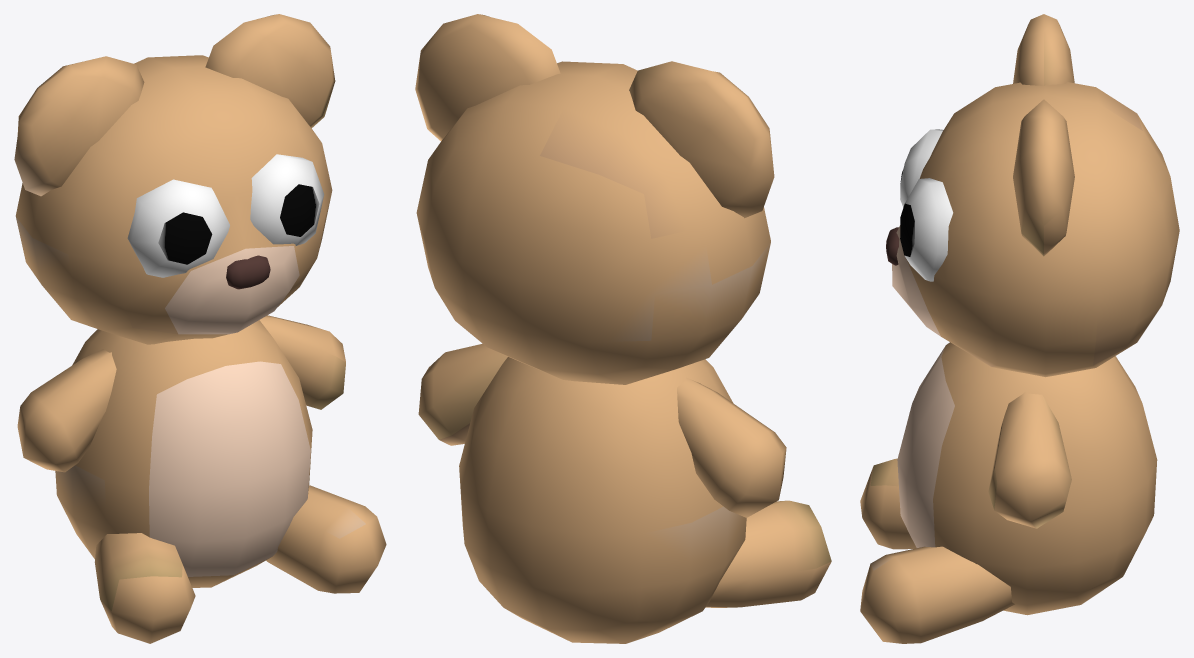
The model's file is Prop_TeddyBear_03.fbx.
The picture shows the model from 3 angles, left to right: view 1: azimuth 30°, elevation 25°; view 2: azimuth 150°, elevation 25°; view 3: azimuth 270°, elevation 25°; orthographic projection. The views are drawn at different scales.
Parts seen in each view (by area): view 1: Prop_TeddyBear_03; view 2: Prop_TeddyBear_03; view 3: Prop_TeddyBear_03.
Boxes of the visible parts, box(x1,y1,x2,y2) form: Prop_TeddyBear_03: box(14, 14, 386, 643); Prop_TeddyBear_03: box(415, 14, 831, 643); Prop_TeddyBear_03: box(860, 14, 1179, 643).
Size of the model in its own units: 30.47 by 48.17 by 26.06.
